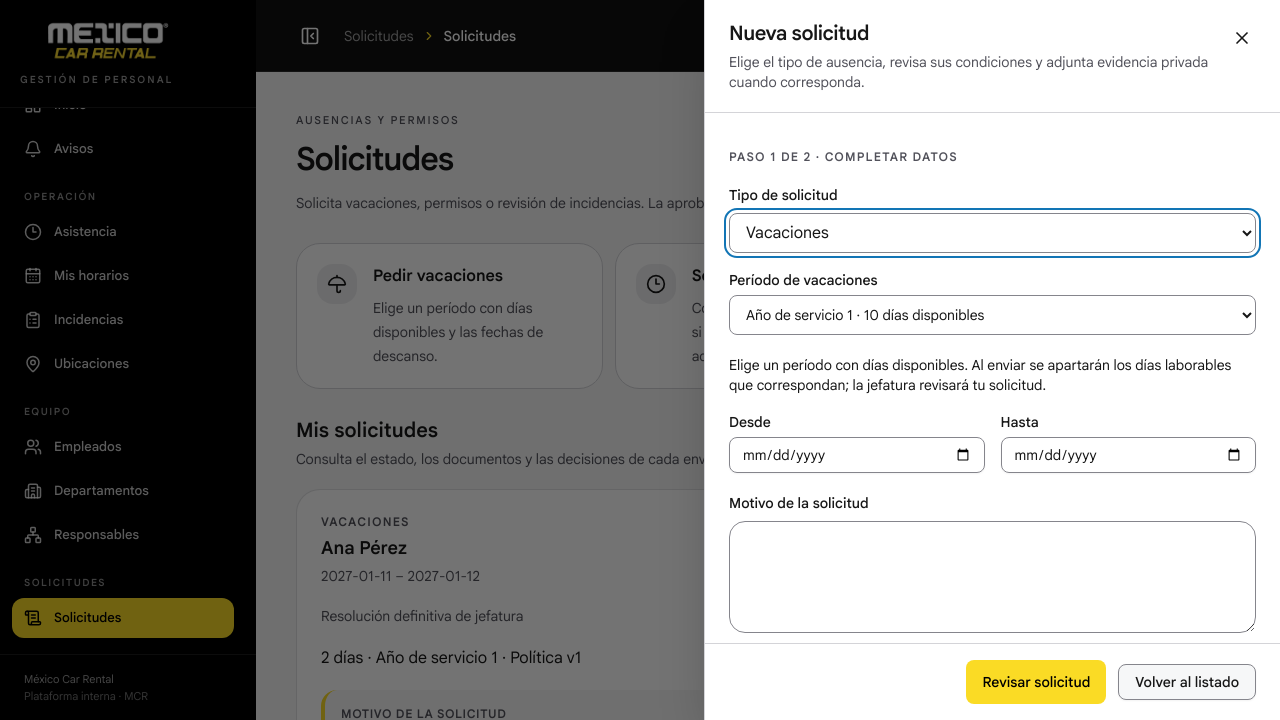
Test: keeps a cold-link period selected after delayed data and permits reverting the draft
(page scrolled)
Expected: the dialog "Nueva solicitud" is shown, [704,0,1279,719]
Expected: the dropdown labelled "Período de vacaciones" shows "Año de servicio 1 · 10 días disponibles", [729,295,1256,335]
Type "Temporal" into the text box labelled "Motivo de la solicitud". click: point(992, 577)
box: [729,521,1256,633]
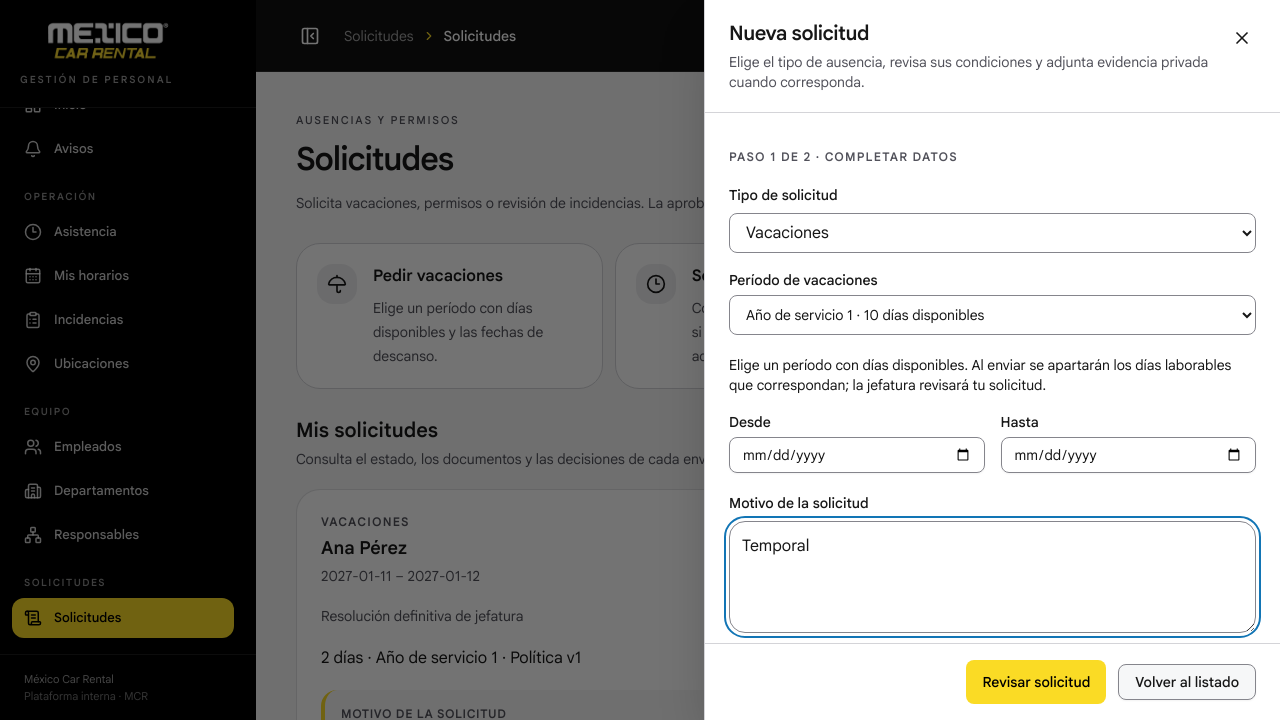
Clear the text box labelled "Motivo de la solicitud". click: point(992, 577)
box: [729,521,1256,633]
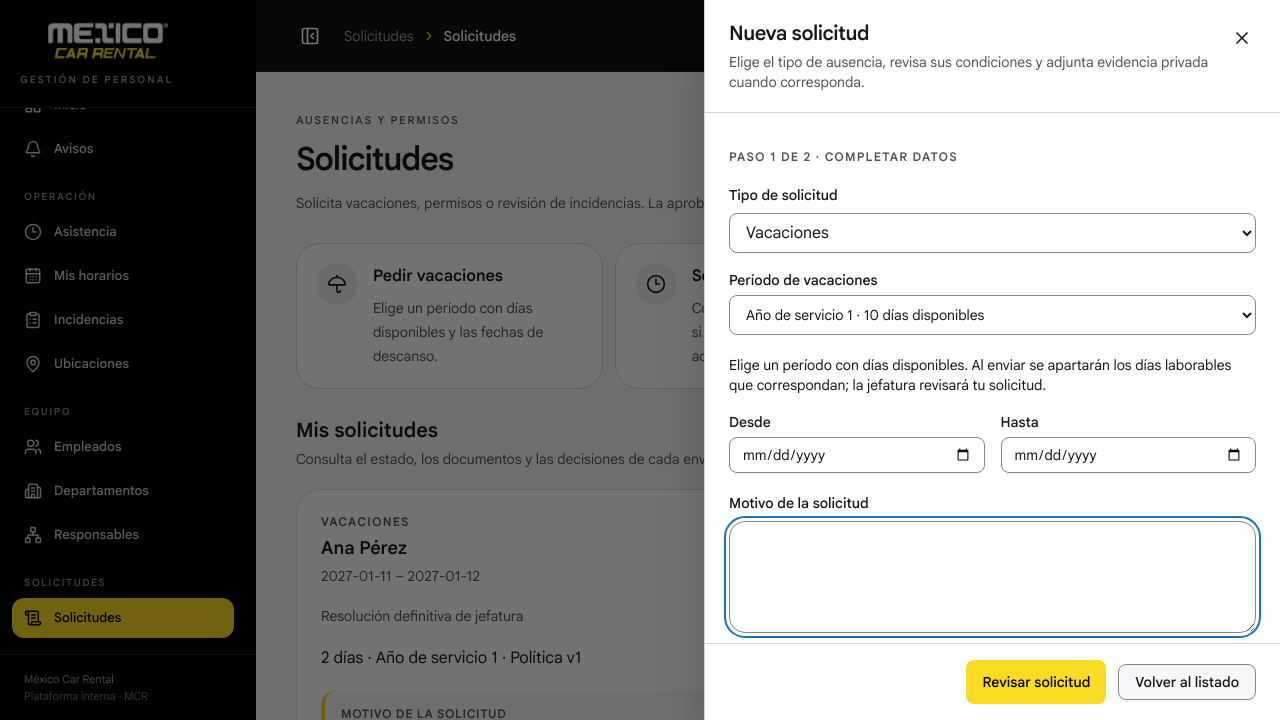
Click the button named "Cerrar panel". click: point(1242, 38)
box: [1220,16,1264,60]
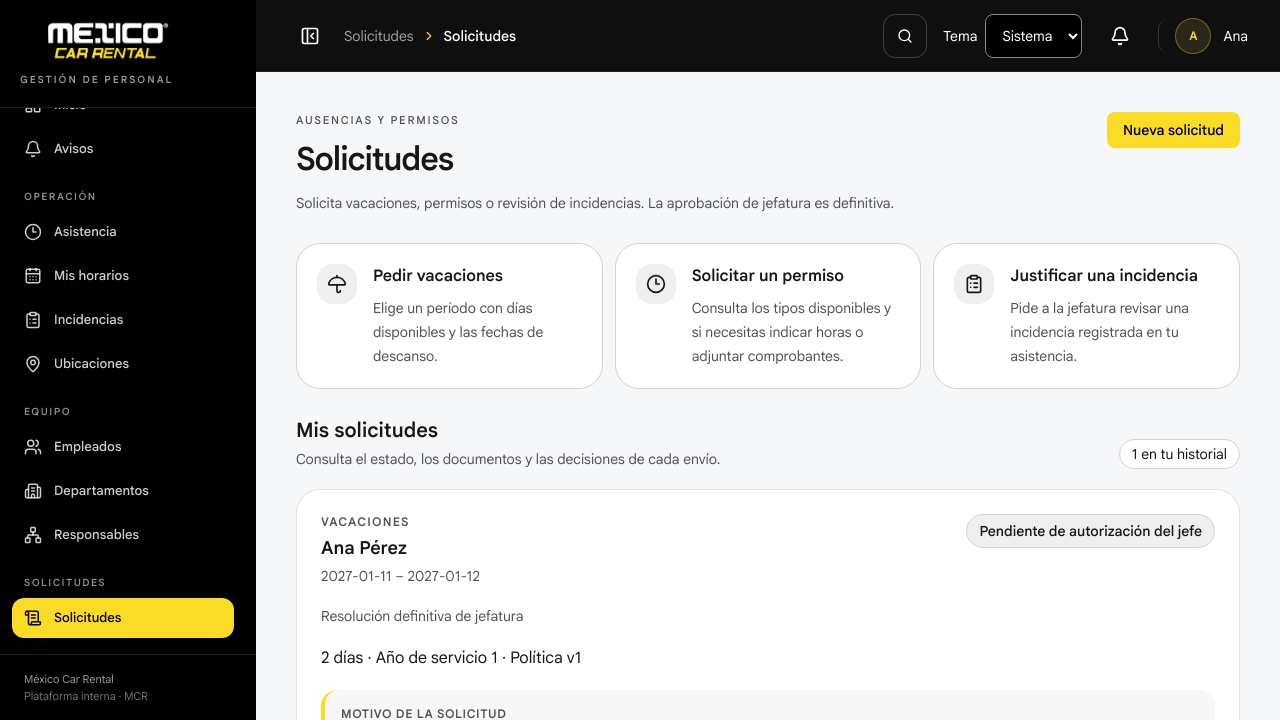
Expected: the dialog is gone
